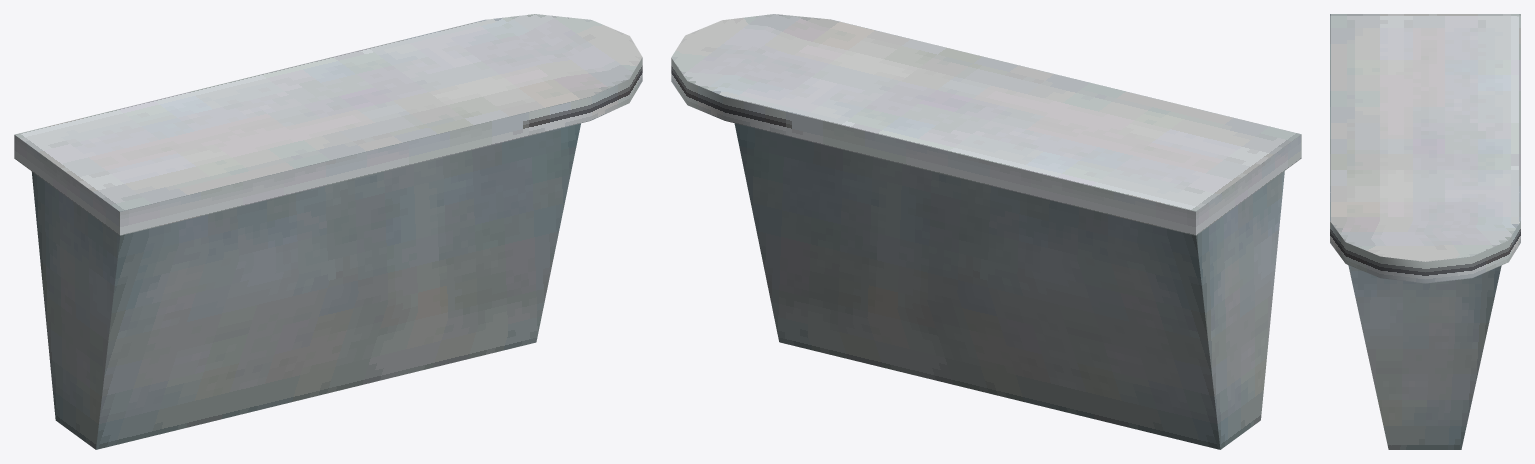
Rendered from frn_counter_s1_l2.fbx.
3 views of the same model, side by side, from view 1: azimuth 30°, elevation 25°; view 2: azimuth 150°, elevation 25°; view 3: azimuth 270°, elevation 25° (orthographic). The views are drawn at different scales.
Parts seen in each view (by area): view 1: mesh_node; view 2: mesh_node; view 3: mesh_node.
Boxes of the visible parts, x1=… form: mesh_node: x1=14, y1=14, x2=642, y2=449; mesh_node: x1=671, y1=14, x2=1301, y2=449; mesh_node: x1=1330, y1=14, x2=1520, y2=449.
Size of the model in its own units: 2.56 by 1.15 by 0.8313.
